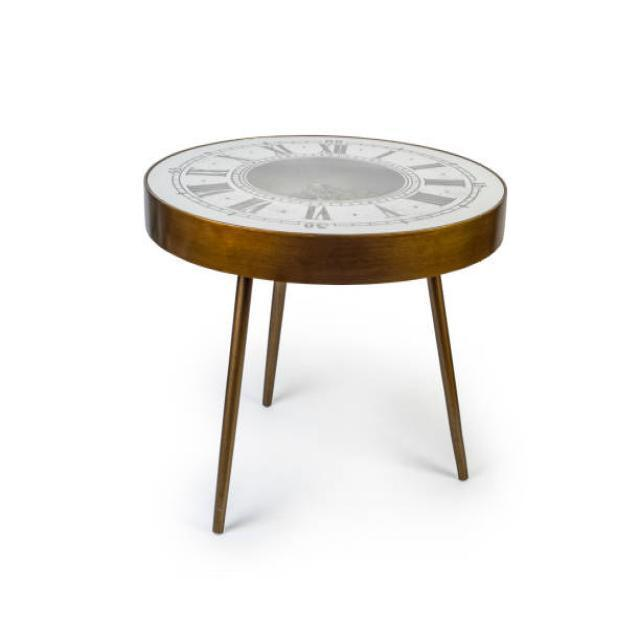table: (142, 132, 507, 534)
